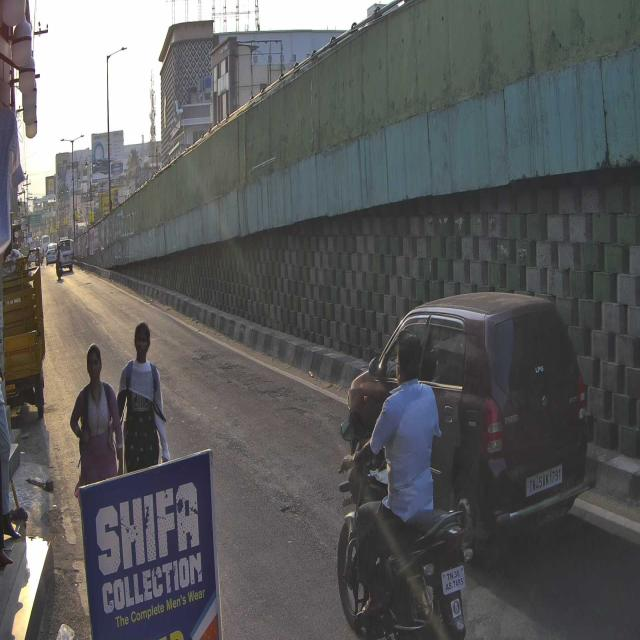single_rider: (336, 329, 472, 640)
